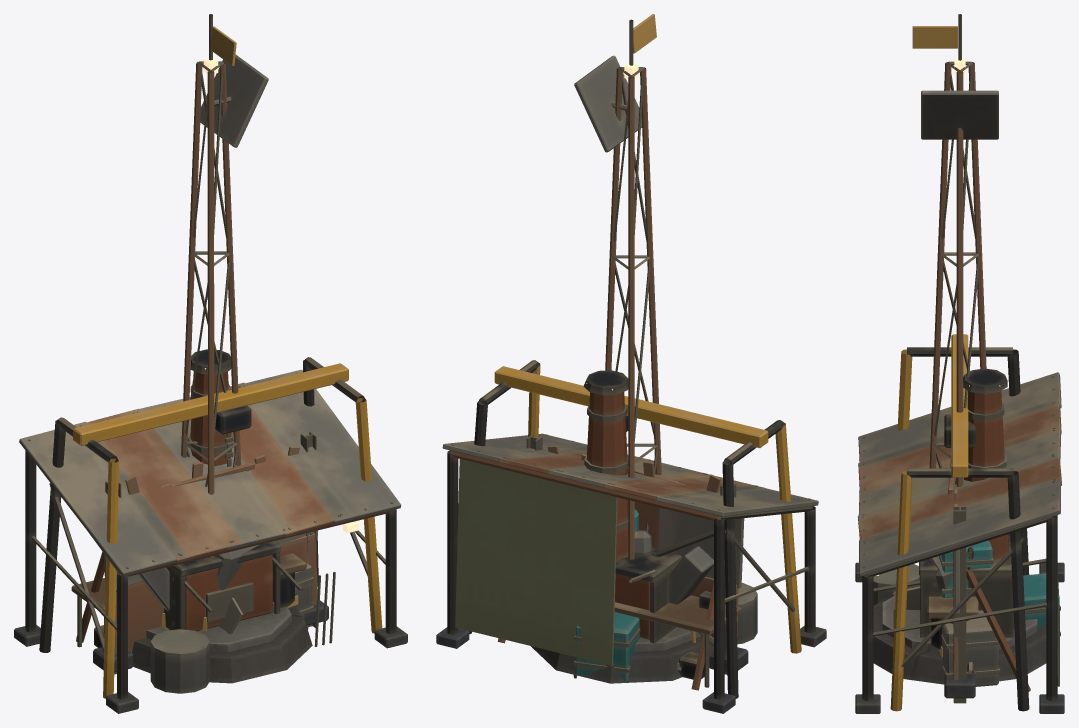
File: salvage_camp.glb
3 views of the same model, side by side, from view 1: azimuth 30°, elevation 25°; view 2: azimuth 150°, elevation 25°; view 3: azimuth 270°, elevation 25° (orthographic).
Parts seen in each view (by area): view 1: CK_LeanTo, CK_Forge, CK_Gantry, CK_Mast, CK_Wall, CK_Crates, CK_Pile; view 2: CK_LeanTo, CK_Forge, CK_Mast, CK_Gantry, CK_Wall, CK_Crates; view 3: CK_LeanTo, CK_Mast, CK_Forge, CK_Gantry, CK_Crates, CK_Wall.
Boxes of the visible parts, box(x1,y1,x2,y2) form: CK_LeanTo: box(14, 369, 407, 713); CK_Forge: box(132, 349, 335, 693); CK_Gantry: box(39, 357, 382, 698); CK_Mast: box(181, 14, 268, 627); CK_Wall: box(76, 431, 328, 674); CK_Crates: box(249, 563, 313, 620); CK_Pile: box(161, 597, 274, 634); CK_LeanTo: box(436, 433, 826, 713); CK_Forge: box(531, 370, 757, 683); CK_Mast: box(574, 14, 661, 559); CK_Gantry: box(468, 360, 801, 698); CK_Wall: box(497, 434, 748, 690); CK_Crates: box(574, 612, 640, 681); CK_LeanTo: box(855, 372, 1064, 713); CK_Mast: box(912, 14, 998, 487); CK_Forge: box(873, 368, 1046, 684); CK_Gantry: box(890, 334, 1029, 711); CK_Crates: box(938, 540, 1060, 686); CK_Wall: box(944, 459, 1030, 703).
Size of the model in its own units: 4.76 by 10.14 by 2.96.
3 materials, 1 textured.
